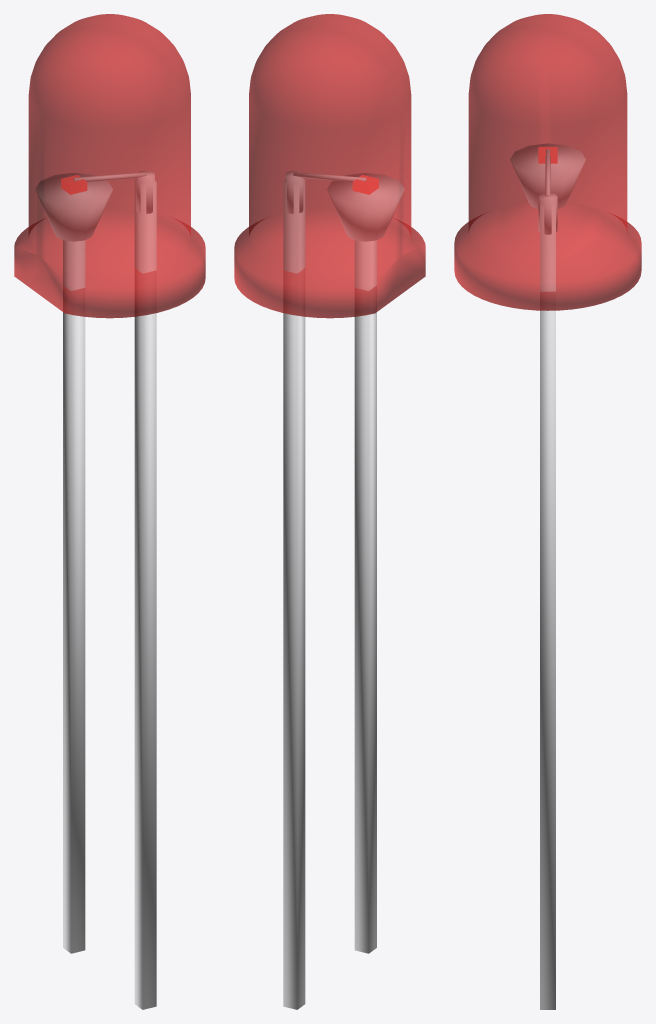
Rendered from led.glb.
The picture shows the model from 3 angles, left to right: view 1: azimuth 30°, elevation 25°; view 2: azimuth 150°, elevation 25°; view 3: azimuth 270°, elevation 25°; orthographic projection. The views are drawn at different scales.
Parts seen in each view (by area): view 1: STATE_Lens, LED_Metal; view 2: STATE_Lens, LED_Metal; view 3: STATE_Lens, LED_Metal.
Boxes of the visible parts, left/top/right/bottom form: STATE_Lens: left=14, top=14, right=205, bottom=318; LED_Metal: left=35, top=171, right=156, bottom=1009; STATE_Lens: left=234, top=14, right=425, bottom=318; LED_Metal: left=283, top=171, right=404, bottom=1009; STATE_Lens: left=454, top=14, right=641, bottom=310; LED_Metal: left=510, top=143, right=585, bottom=1009.
Size of the model in its own units: 0.00545 by 0.0337 by 0.0059.
